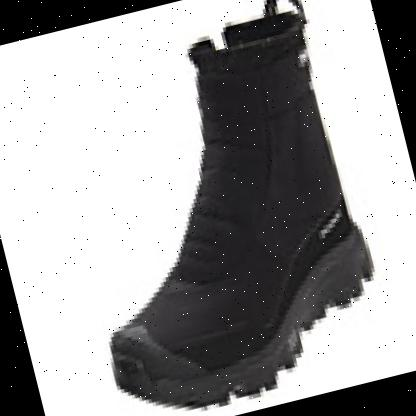bota: (38, 1, 397, 416)
